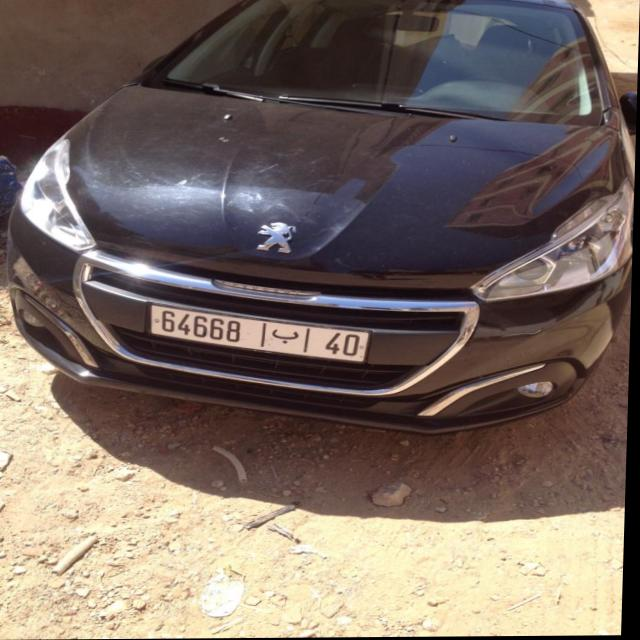License-Plate: (152, 305, 372, 363)
